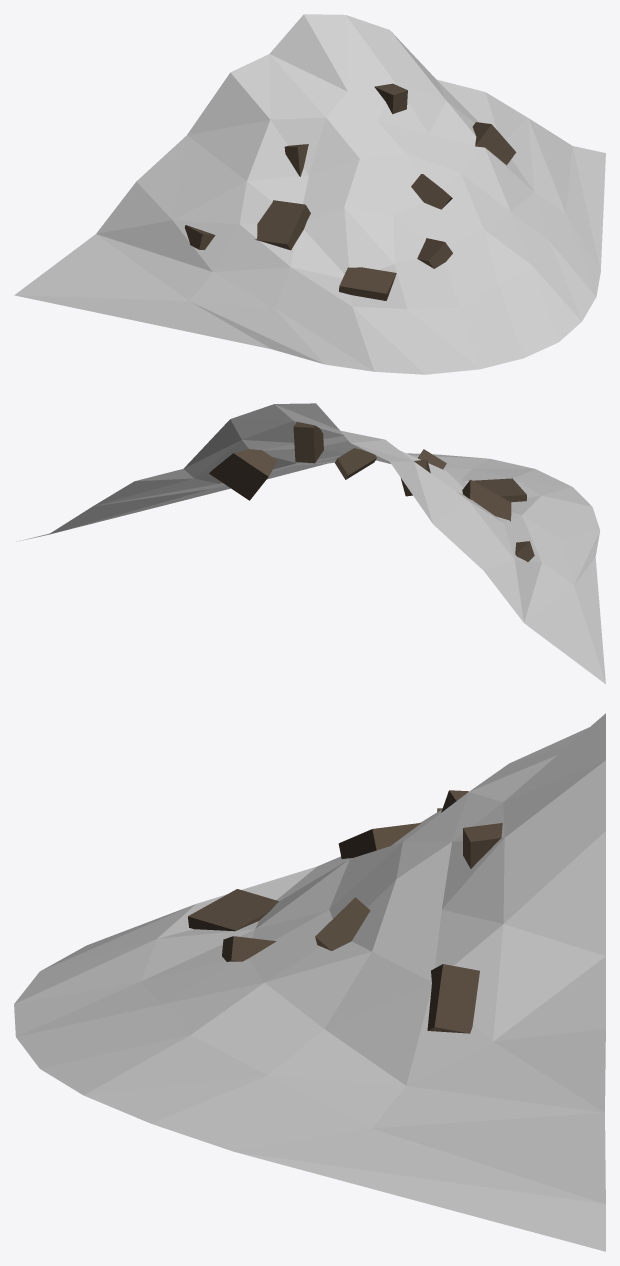
Rendered from ADDON_DUNGEON_SCHUTT_01.OBJ.
3 views of the same model, one above another, from view 1: azimuth 30°, elevation 25°; view 2: azimuth 150°, elevation 25°; view 3: azimuth 270°, elevation 25° (orthographic). The views are drawn at different scales.
Parts seen in each view (by area): view 1: ADDON_DUNGEON_SCHUTT_01; view 2: ADDON_DUNGEON_SCHUTT_01; view 3: ADDON_DUNGEON_SCHUTT_01.
Part boxes in pixels (x1,y1,x2,y2): ADDON_DUNGEON_SCHUTT_01: [14, 14, 605, 374]; ADDON_DUNGEON_SCHUTT_01: [17, 403, 605, 684]; ADDON_DUNGEON_SCHUTT_01: [14, 713, 605, 1251].
Size of the model in its own units: 3.72 by 1.28 by 2.15.
